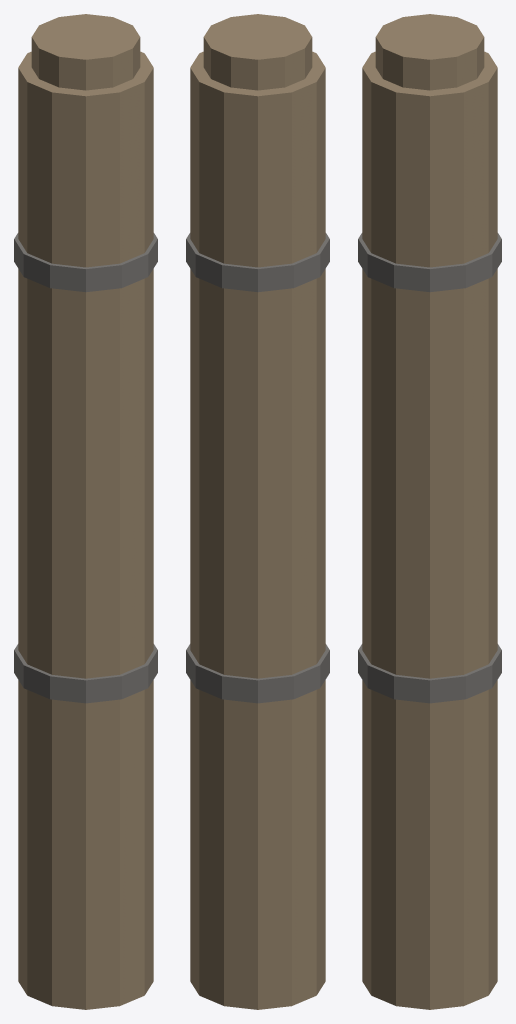
Rendered from dm_dockpileshort.glb.
3 renders of one model, left to right at view 1: azimuth 30°, elevation 25°; view 2: azimuth 150°, elevation 25°; view 3: azimuth 270°, elevation 25°, orthographic.
Parts seen in each view (by area): view 1: dm_dockpileshort; view 2: dm_dockpileshort; view 3: dm_dockpileshort.
Part boxes in pixels (box(x1,y1,x2,y2)): dm_dockpileshort: box(14, 14, 157, 1009); dm_dockpileshort: box(186, 14, 329, 1009); dm_dockpileshort: box(358, 14, 501, 1009).
Size of the model in its own units: 0.3392 by 2.46 by 0.3392.
